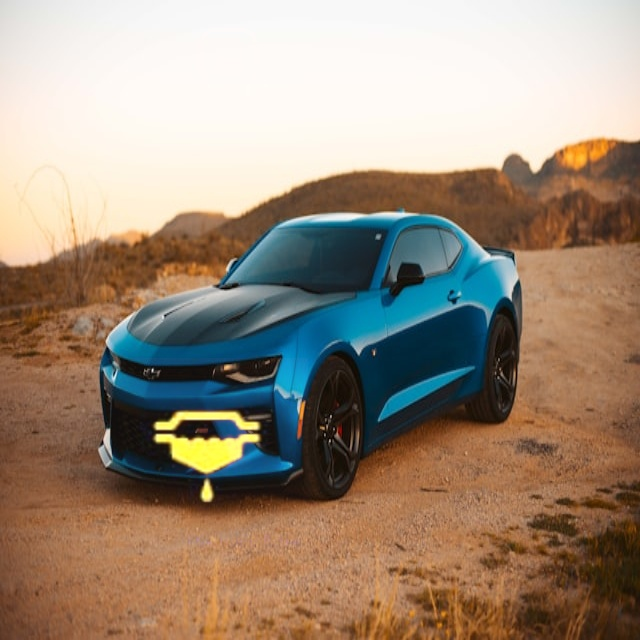symbol: (108, 358, 308, 558), (133, 0, 324, 191)
